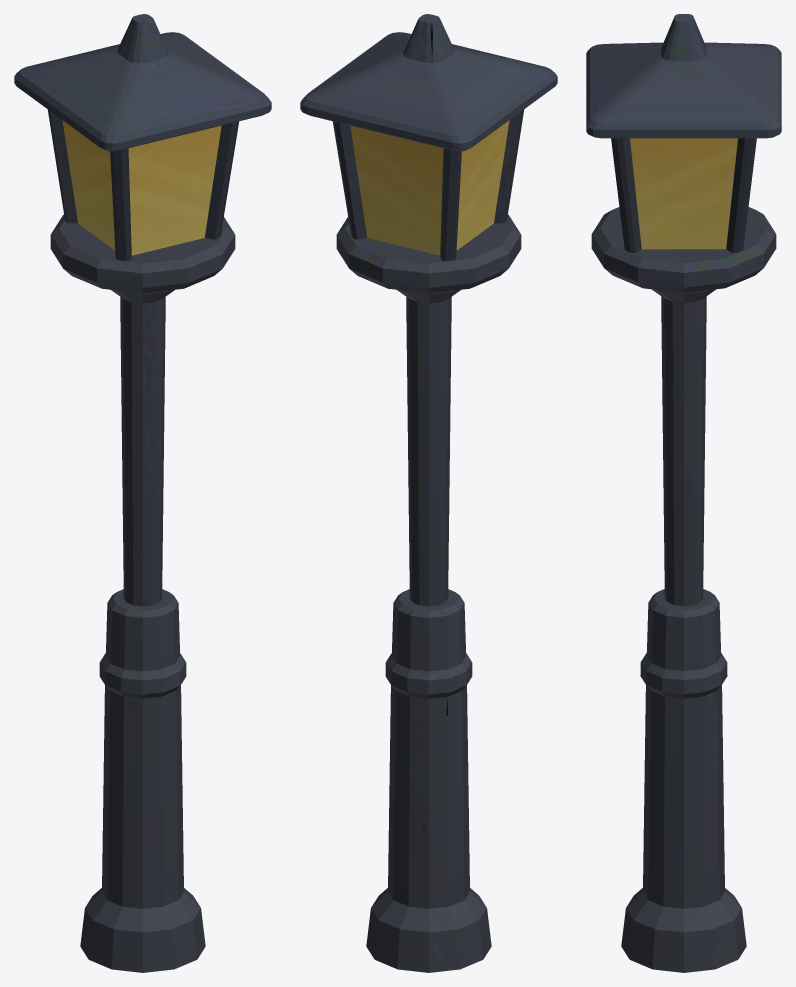
Rendered from garden_lamp.glb.
The picture shows the model from 3 angles, left to right: view 1: azimuth 30°, elevation 25°; view 2: azimuth 150°, elevation 25°; view 3: azimuth 270°, elevation 25°; orthographic projection.
Parts seen in each view (by area): view 1: garden_lamp; view 2: garden_lamp; view 3: garden_lamp.
Boxes of the visible parts, <box> form: garden_lamp: <box>14,14,271,972</box>; garden_lamp: <box>300,14,557,972</box>; garden_lamp: <box>586,14,781,972</box>.
Size of the model in its own units: 0.2425 by 1.27 by 0.2425.
1 material, 1 textured.
